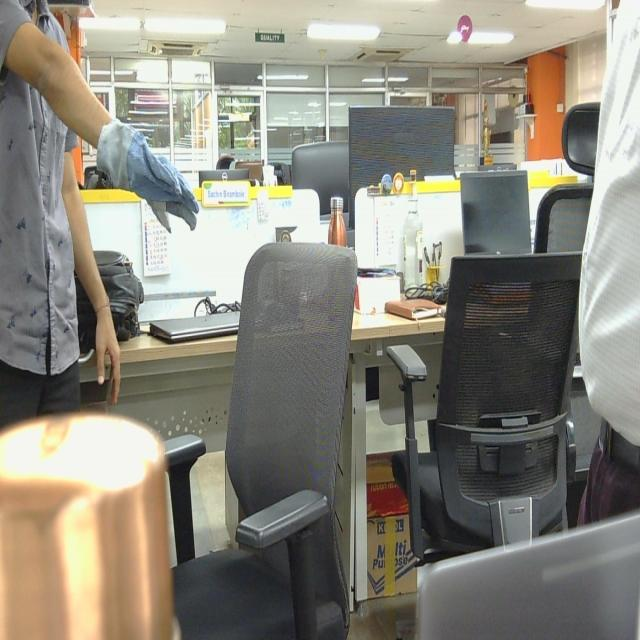Gloves-Detection: (94, 110, 204, 245)
